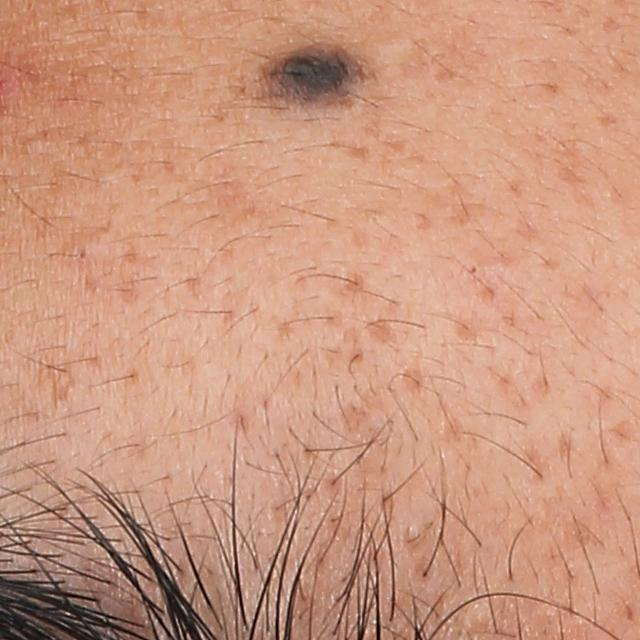nevus: (258, 44, 358, 107)
